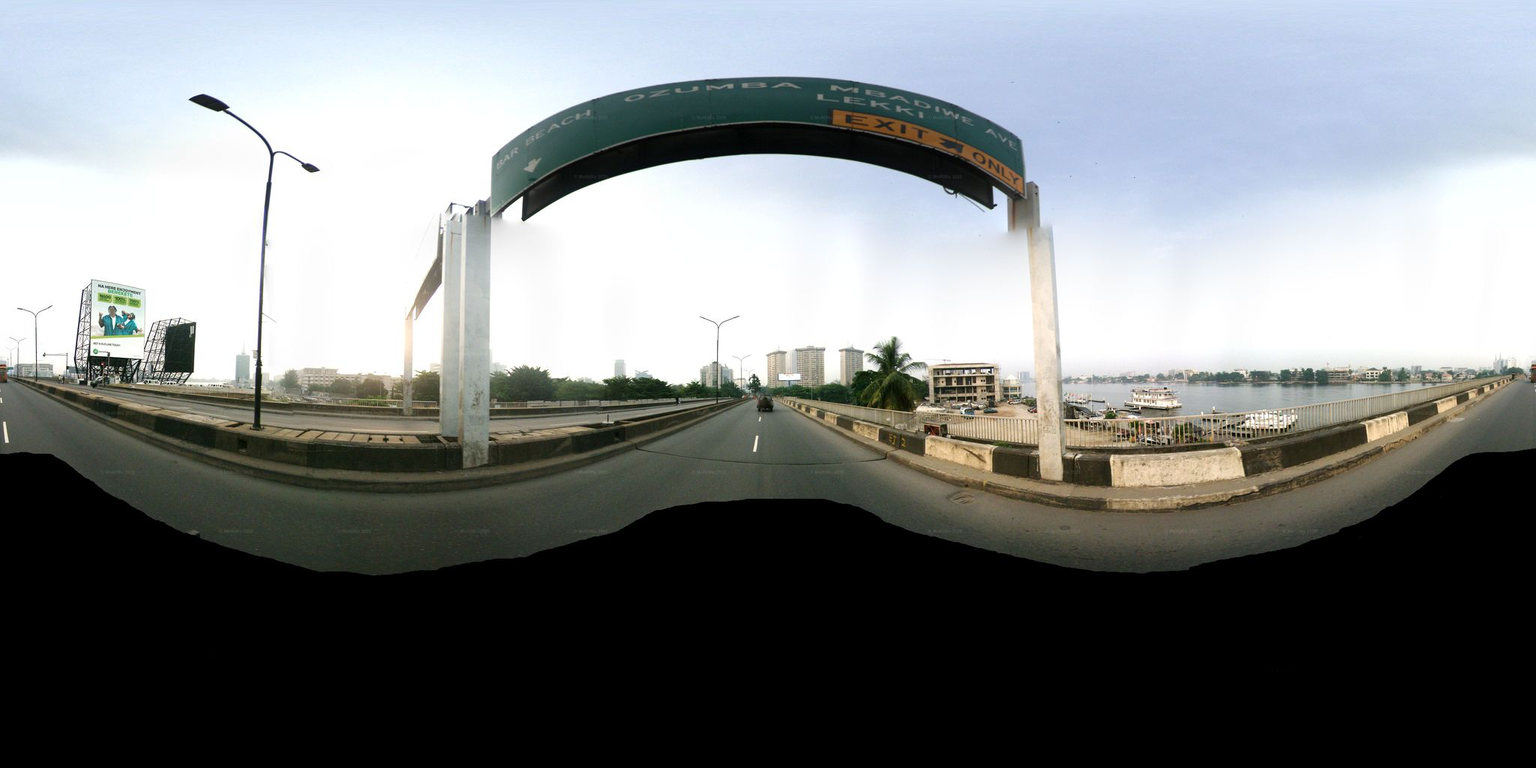Billboard: (491, 76, 1024, 218), (79, 280, 148, 362)
